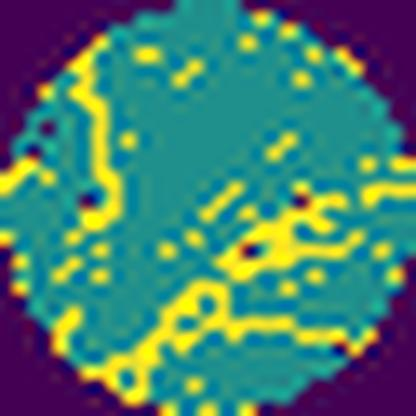Scratch: (77, 278, 379, 408), (212, 190, 372, 285), (62, 32, 131, 237)
